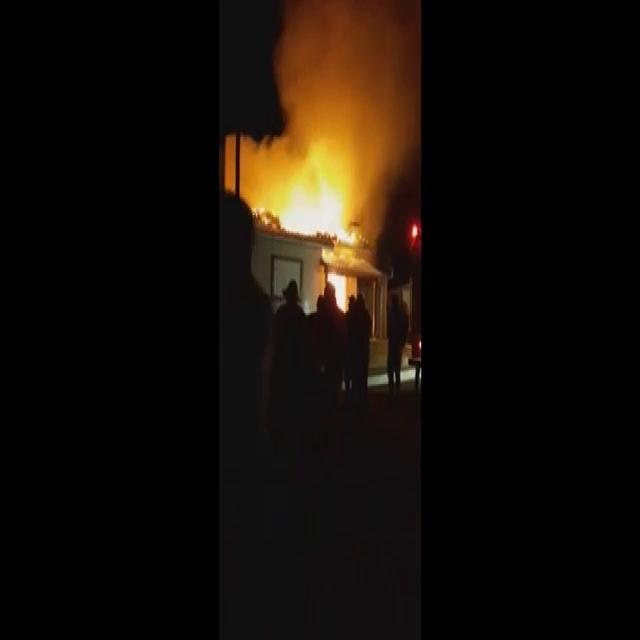Fire: (255, 180, 362, 242), (327, 272, 349, 308)
Smoke: (266, 9, 420, 141)
